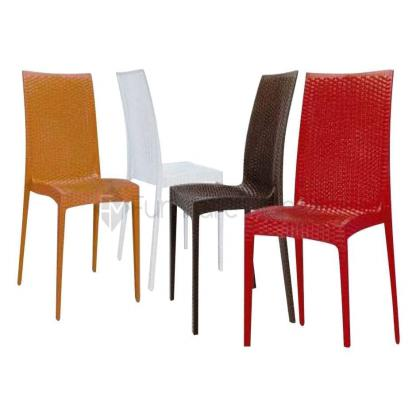chair: (242, 70, 405, 349), (161, 68, 305, 339), (18, 59, 154, 325), (109, 68, 233, 312)
